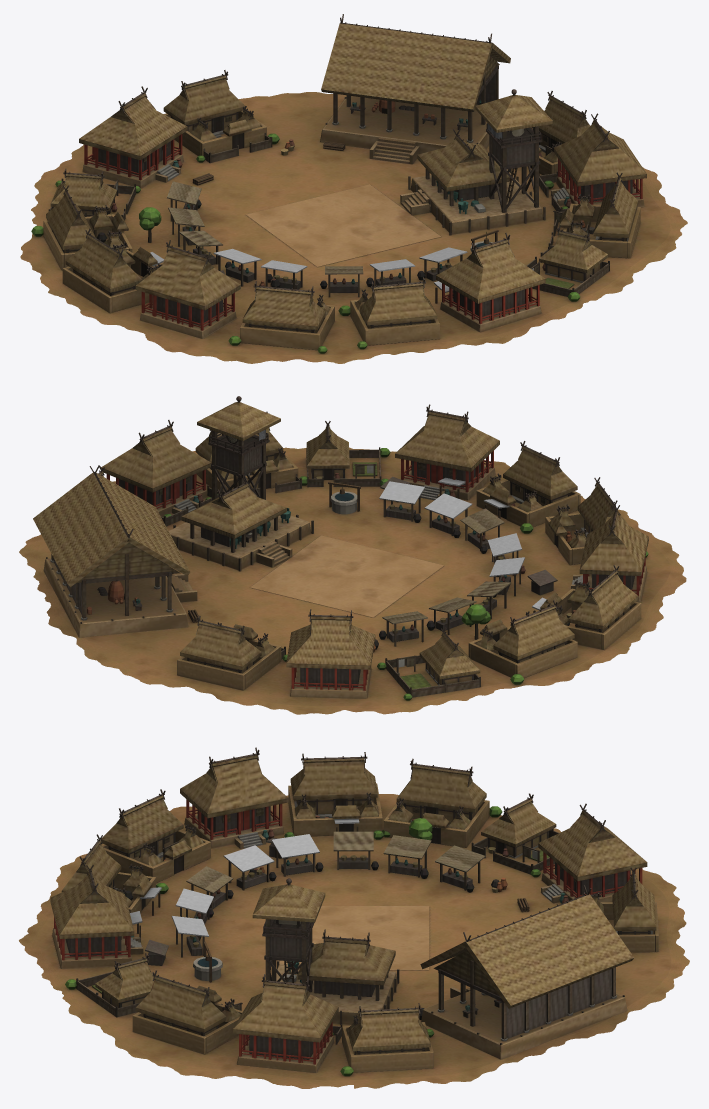
The model's file is bronze-town-medium-a-sinic.glb.
The picture shows the model from 3 angles, top to bottom: view 1: azimuth 30°, elevation 25°; view 2: azimuth 150°, elevation 25°; view 3: azimuth 270°, elevation 25°; orthographic projection. The views are drawn at different scales.
Visible parts, largest first — view 1: LOD0; view 2: LOD0; view 3: LOD0.
Boxes of the visible parts, x1=… form: LOD0: x1=20, y1=14, x2=687, y2=363; LOD0: x1=19, y1=396, x2=686, y2=714; LOD0: x1=19, y1=747, x2=689, y2=1088.
Size of what is drawn, in the model's own units: 5.92 by 1.23 by 5.6.
3 materials, 3 textured.
